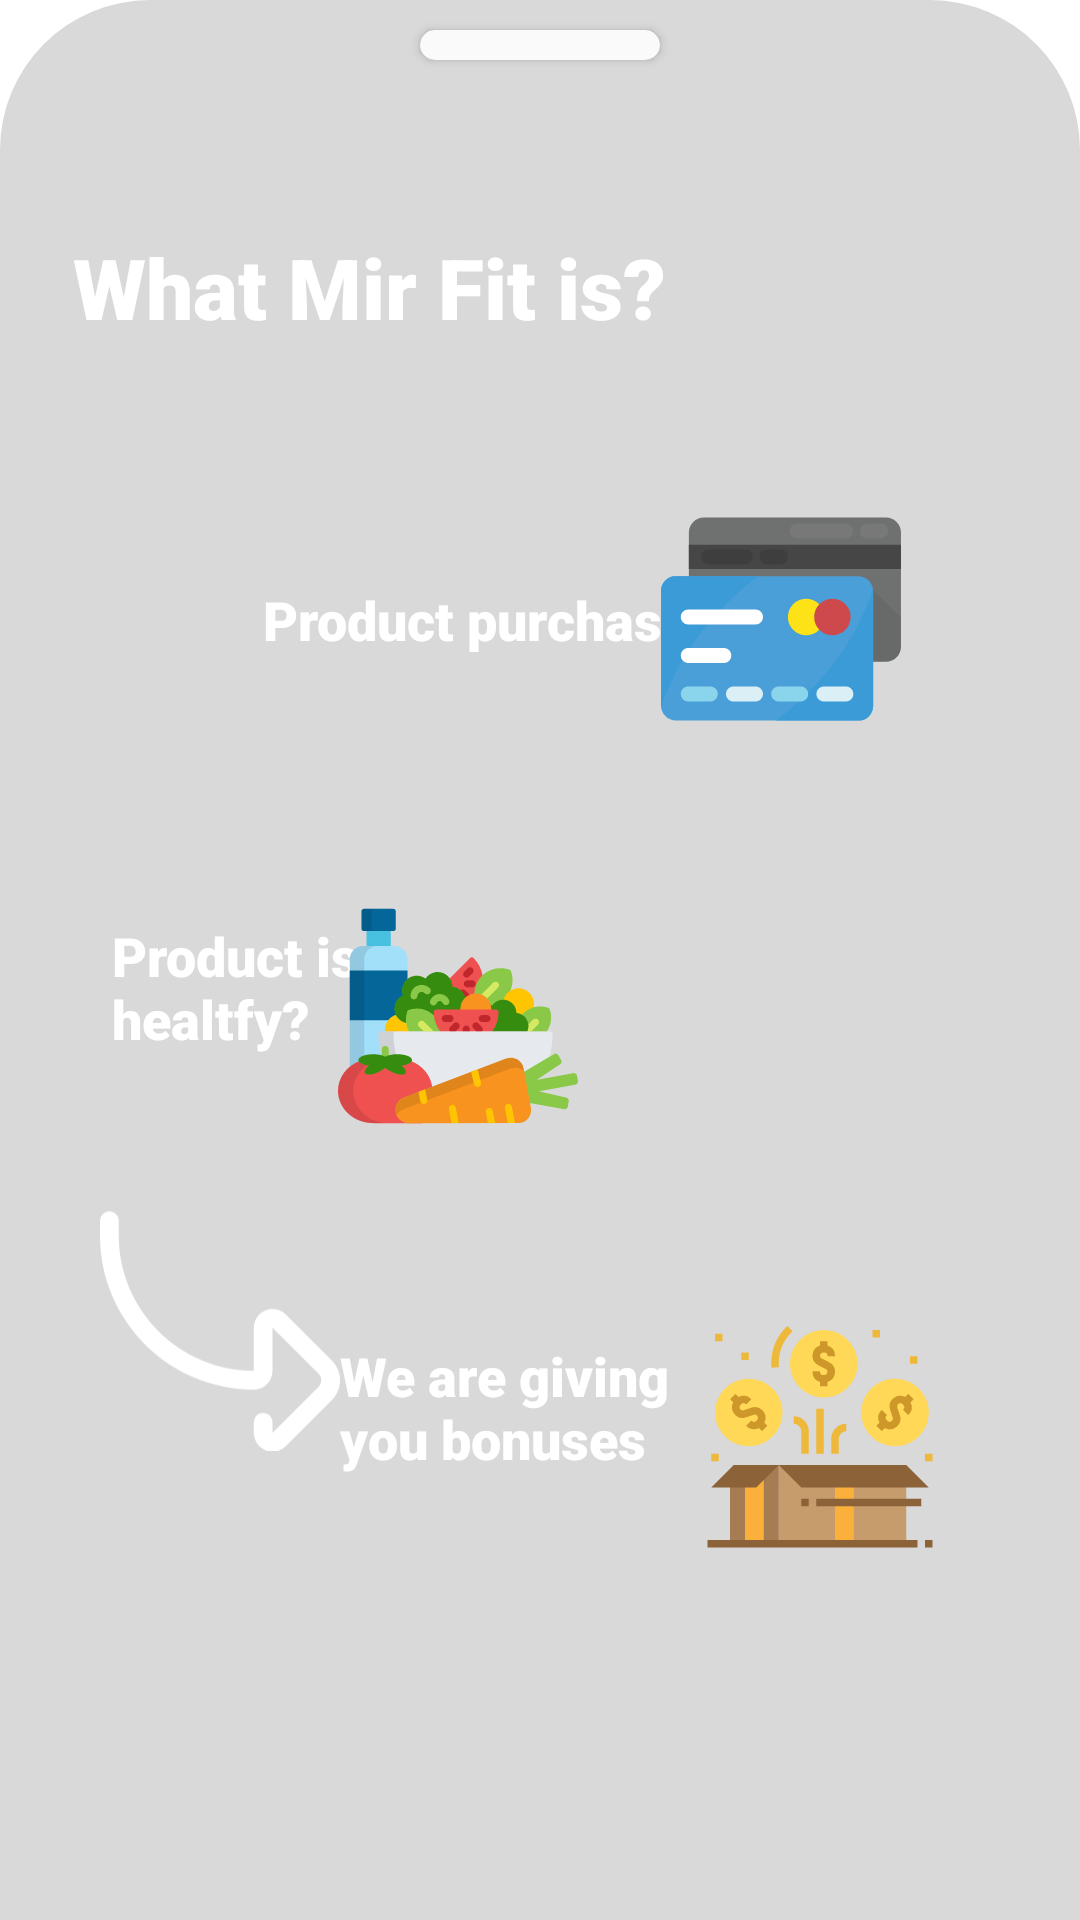

Screen size 1080*1920. Icon name, then its center in pixels as (x=x, y=y):
diet: (x=458, y=1016)
pay: (x=768, y=619)
